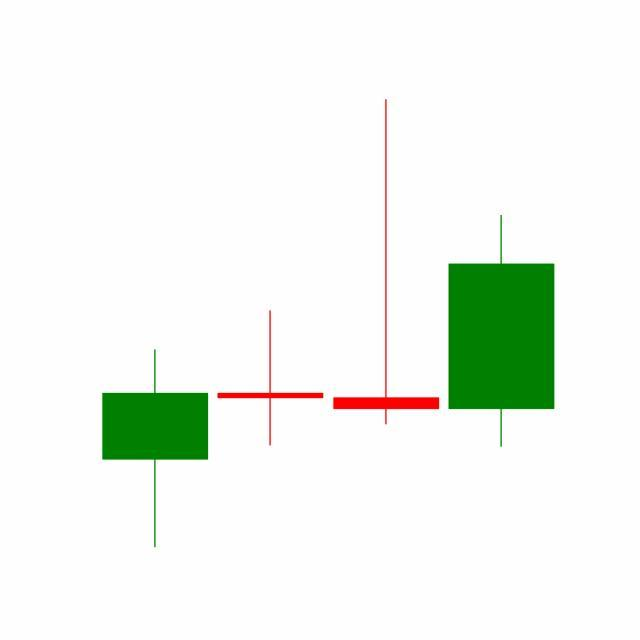Spinning Top: (329, 97, 445, 430)
